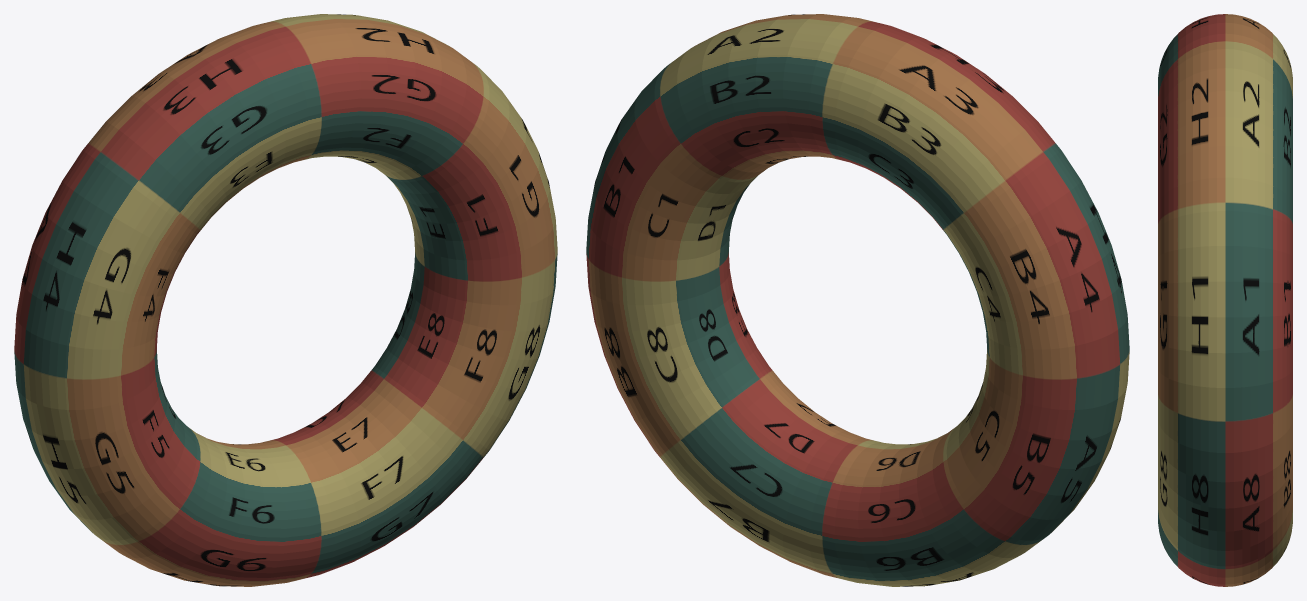
The model's file is texture_torus_R22_r21.glb.
3 views of the same model, side by side, from view 1: azimuth 30°, elevation 25°; view 2: azimuth 150°, elevation 25°; view 3: azimuth 270°, elevation 25° (orthographic). The views are drawn at different scales.
Visible parts, largest first — view 1: world; view 2: world; view 3: world.
Part boxes in pixels (<box>): world: <box>14,14,557,586</box>; world: <box>586,14,1129,586</box>; world: <box>1158,14,1292,586</box>.
Bounding box in the file's own units: 32.27 × 32.2 × 7.59.
Materials: 1 (1 with a texture image).
